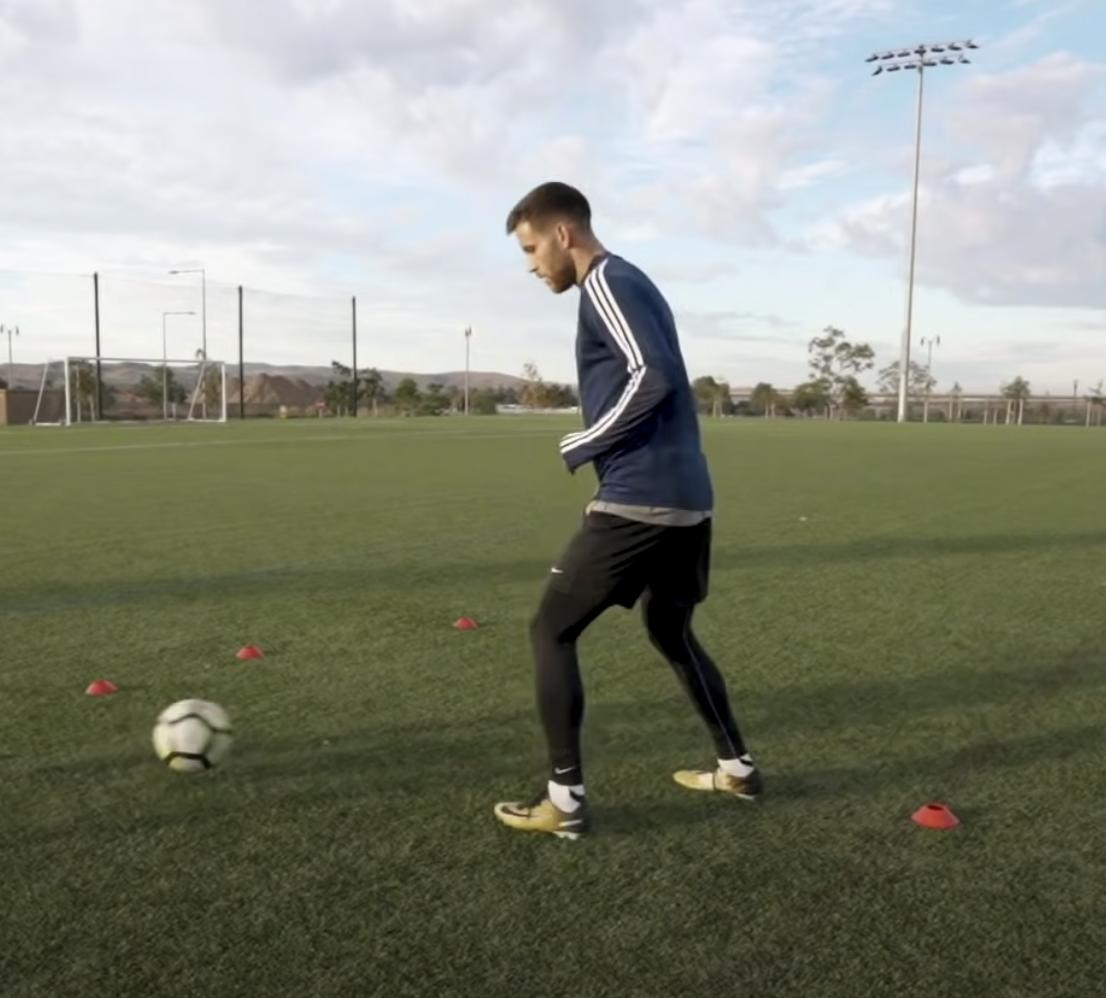ball: (152, 699, 232, 774)
foot: (491, 791, 592, 842), (670, 763, 763, 801)
person: (499, 177, 760, 837)
